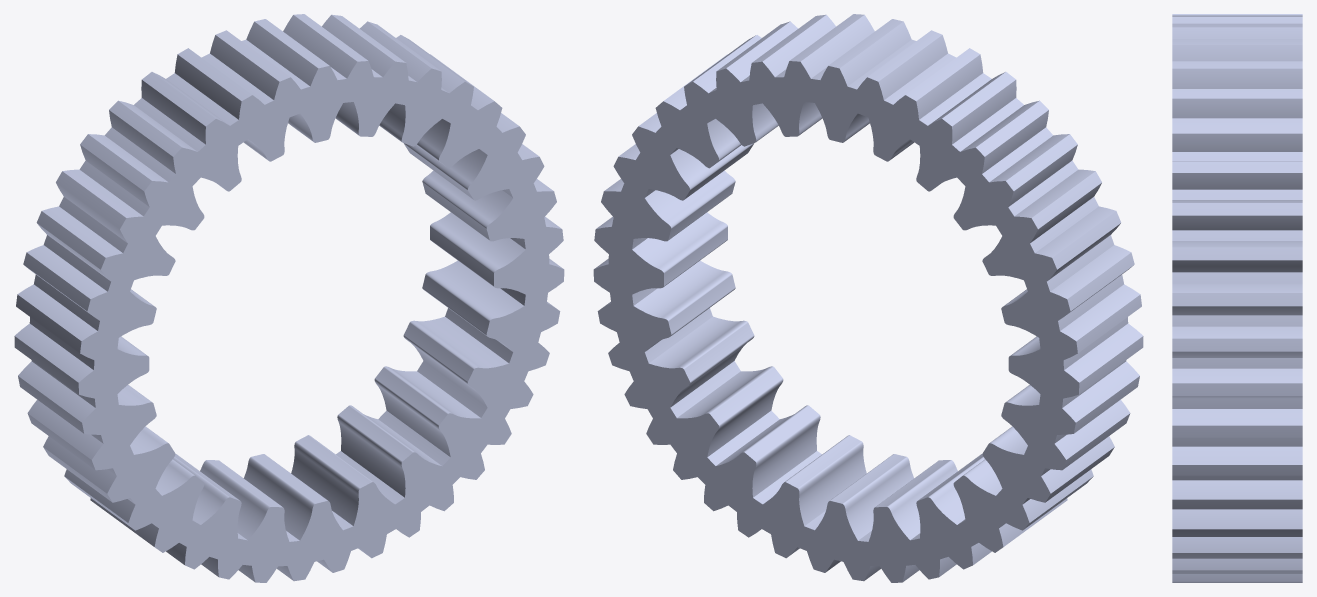
The model's file is REV_21_2102_A01_1_REV_21_2102_P02_1_solid1.obj.
The picture shows the model from 3 angles, left to right: view 1: azimuth 30°, elevation 25°; view 2: azimuth 150°, elevation 25°; view 3: azimuth 270°, elevation 25°; orthographic projection.
Parts seen in each view (by area): view 1: mesh25757, mesh25847, mesh25785, mesh25844, mesh25789, mesh25800, mesh25796, mesh25841, mesh25803, mesh25648, mesh25694, mesh25793 (+53 smaller); view 2: mesh25758, mesh25847, mesh25785, mesh25844, mesh25789, mesh25800, mesh25796, mesh25841, mesh25803, mesh25648, mesh25694, mesh25793 (+53 smaller); view 3: mesh25696, mesh25700, mesh25742, mesh25738, mesh25704, mesh25734, mesh25692, mesh25708, mesh25730, mesh25712, mesh25726, mesh25746 (+43 smaller).
Part boxes in pixels (box(x1,y1,x2,y2)): mesh25757: box(78, 61, 564, 582); mesh25847: box(425, 260, 523, 321); mesh25785: box(291, 441, 360, 525); mesh25844: box(430, 212, 525, 273); mesh25789: box(337, 414, 405, 497); mesh25800: box(243, 457, 315, 540); mesh25796: box(410, 316, 508, 369); mesh25841: box(422, 170, 512, 228); mesh25803: box(200, 460, 270, 539); mesh25648: box(18, 361, 95, 422); mesh25694: box(283, 15, 357, 78); mesh25793: box(374, 378, 450, 456); mesh25758: box(593, 61, 1079, 582); mesh25847: box(634, 260, 732, 321); mesh25785: box(797, 441, 866, 525); mesh25844: box(632, 212, 727, 273); mesh25789: box(752, 414, 820, 497); mesh25800: box(842, 457, 914, 540); mesh25796: box(649, 316, 747, 369); mesh25841: box(645, 170, 735, 228); mesh25803: box(887, 460, 957, 539); mesh25648: box(1062, 361, 1139, 422); mesh25694: box(800, 15, 874, 78); mesh25793: box(707, 378, 783, 456); mesh25696: box(1172, 68, 1302, 88); mesh25700: box(1172, 98, 1302, 118); mesh25742: box(1172, 509, 1302, 529); mesh25738: box(1172, 480, 1302, 499); mesh25704: box(1172, 133, 1302, 151); mesh25734: box(1172, 446, 1302, 464); mesh25692: box(1172, 45, 1302, 61); mesh25708: box(1172, 173, 1302, 189); mesh25730: box(1172, 409, 1302, 425); mesh25712: box(1172, 215, 1302, 230); mesh25726: box(1172, 368, 1302, 383); mesh25746: box(1172, 537, 1302, 552).
Bounding box in the file's own units: 0.02 × 0.02 × 0.00458.
